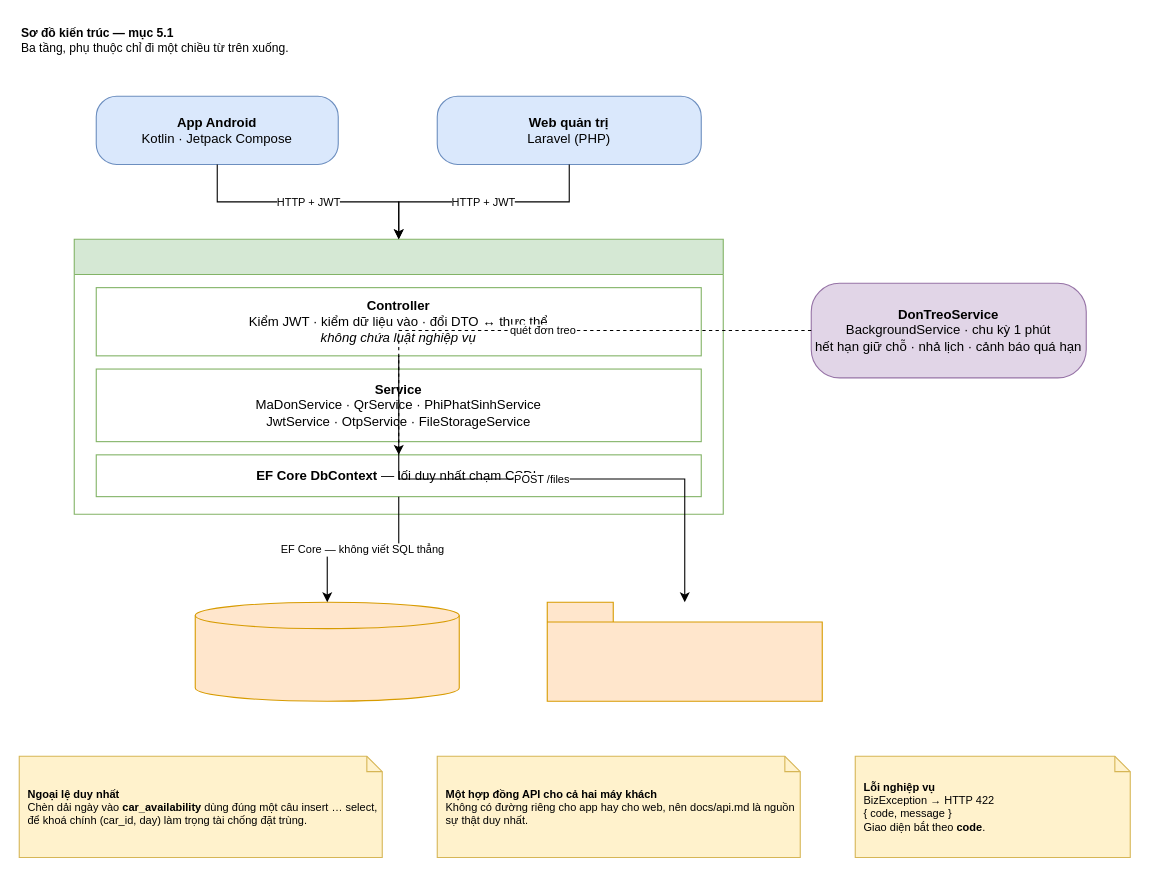
Image size: 1150x877. Some labels were removed from this diagram. The box of each missing label's shape, as (x1, y1, x2, y2) in pixels:
ASP.NET Core API: (73, 238, 723, 514)
SQL Server 2022 14 bảng: (194, 601, 459, 701)
uploads/ ảnh xe · ảnh biên bản · chữ ký phục vụ tĩnh qua /files/**: (546, 601, 822, 701)
